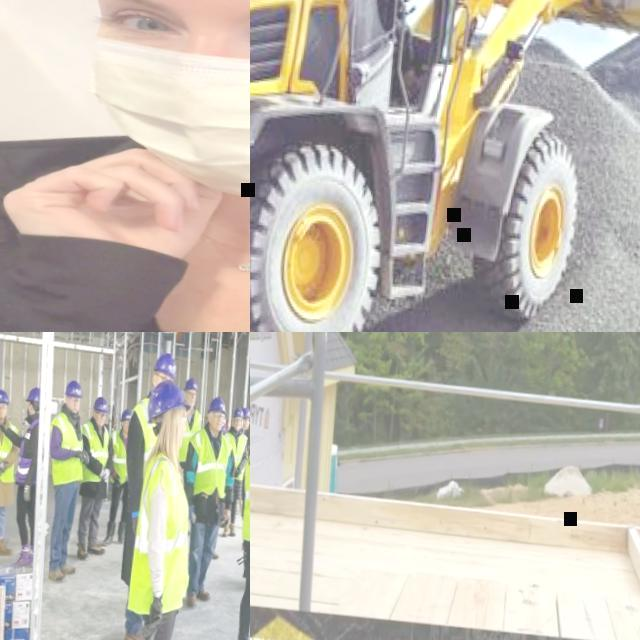helmet: (146, 378, 194, 430), (152, 352, 179, 381), (208, 396, 230, 417), (64, 380, 85, 400), (93, 397, 111, 414), (182, 378, 200, 393), (26, 388, 42, 404), (119, 408, 133, 425), (0, 389, 11, 406), (233, 406, 245, 419), (242, 407, 250, 420), (108, 404, 116, 411), (222, 417, 227, 428)
machinery: (250, 0, 640, 332)
mask: (89, 0, 250, 206), (27, 404, 33, 418)
no_mask: (211, 421, 223, 432), (67, 405, 80, 415), (180, 430, 186, 450), (186, 398, 195, 408), (96, 419, 105, 428), (0, 409, 7, 419), (234, 423, 241, 430), (122, 427, 128, 434), (244, 424, 249, 431)
no_vest: (0, 164, 250, 332)
person: (0, 0, 250, 332), (109, 374, 209, 640), (108, 349, 181, 640), (172, 392, 242, 614), (38, 378, 98, 584), (0, 384, 49, 573), (71, 396, 120, 564), (225, 393, 250, 640), (100, 406, 136, 550), (215, 405, 250, 540), (0, 388, 26, 566), (176, 376, 208, 481), (227, 406, 250, 528), (105, 404, 118, 432)
vest: (127, 450, 201, 618), (184, 426, 234, 499), (126, 394, 164, 484), (46, 412, 88, 490), (77, 421, 112, 486), (14, 417, 40, 488), (105, 430, 132, 486), (178, 408, 205, 464), (220, 430, 248, 480), (0, 419, 21, 484), (240, 434, 249, 471), (108, 414, 118, 434)
